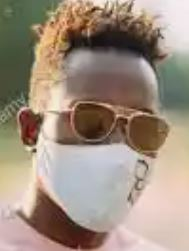with_facemask: (59, 138, 150, 219)
